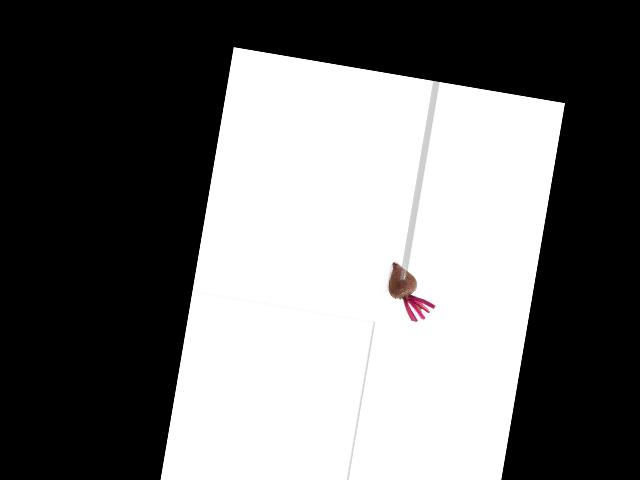beet: (383, 261, 441, 324)
